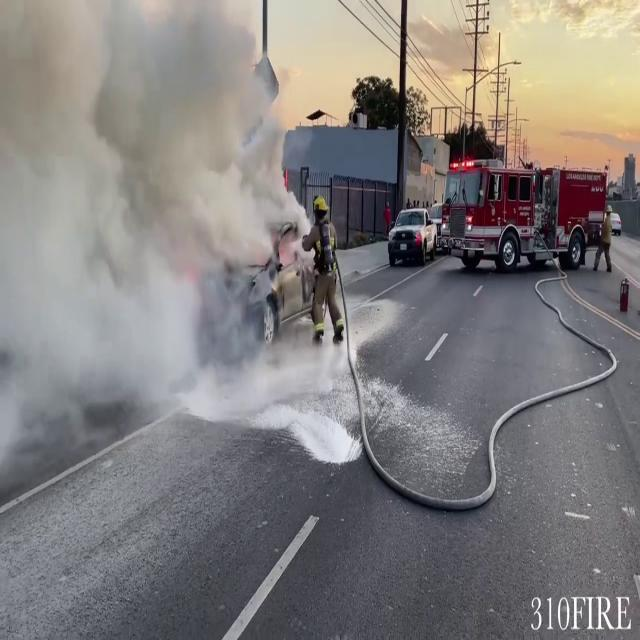Smoke: (0, 0, 308, 479)
